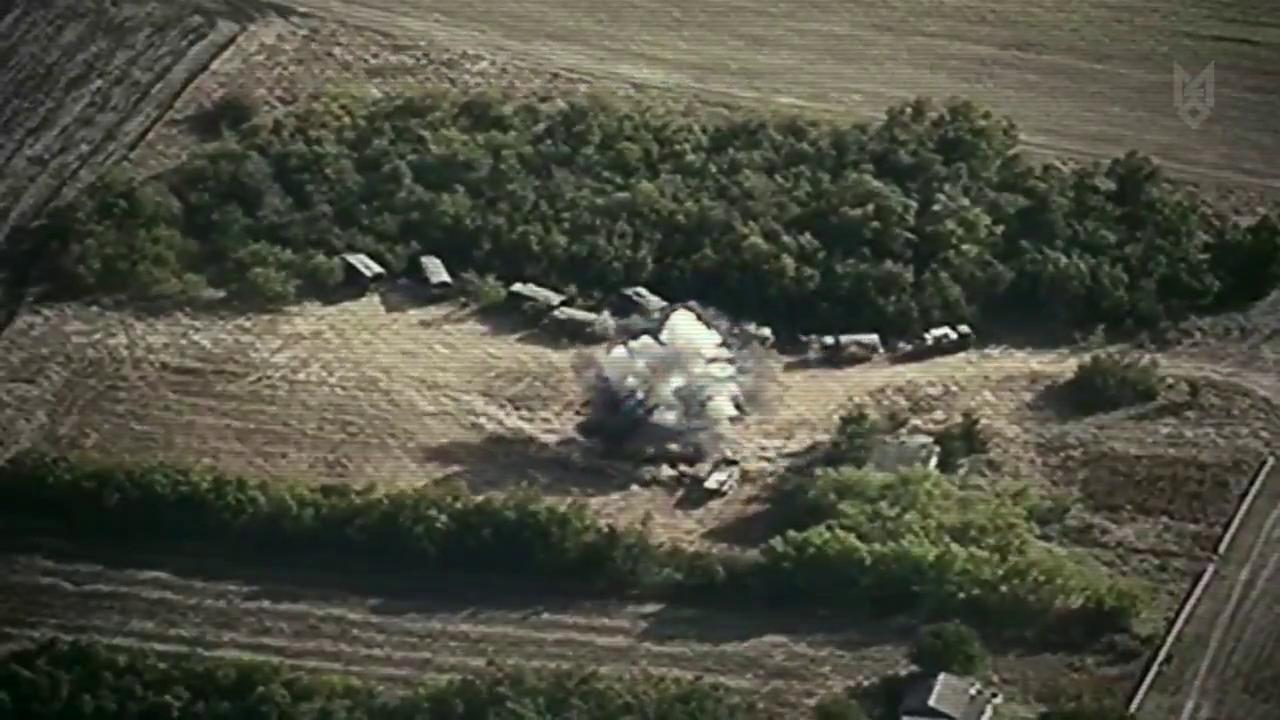tank: (408, 248, 463, 301), (499, 275, 567, 316), (543, 305, 614, 344), (814, 329, 886, 366), (699, 451, 749, 502), (914, 323, 973, 365), (338, 247, 387, 295), (616, 281, 668, 325), (729, 320, 772, 347)
